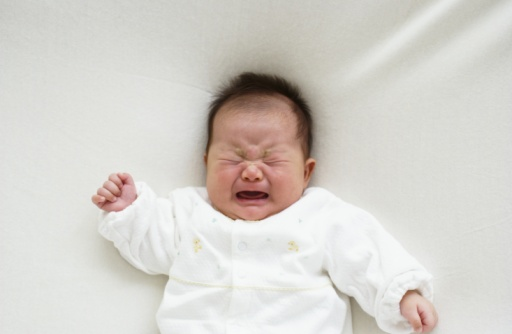deitado: (68, 67, 461, 334)
